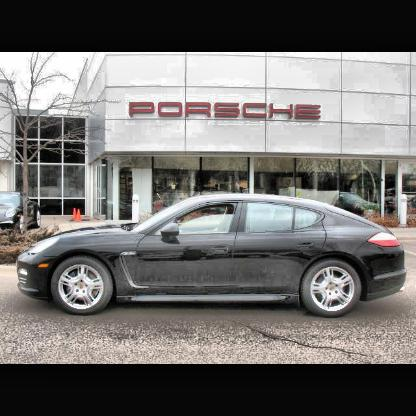Porsche Panamera Sedan 2012: (17, 193, 407, 320)
